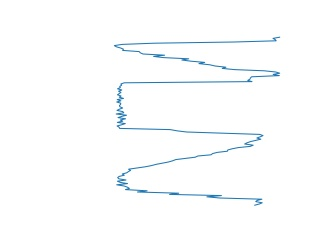distributaryChannelFill: (111, 72, 266, 143)
mouthBar: (111, 33, 283, 77)
underwaterDistributaryChannel: (114, 136, 264, 206)
